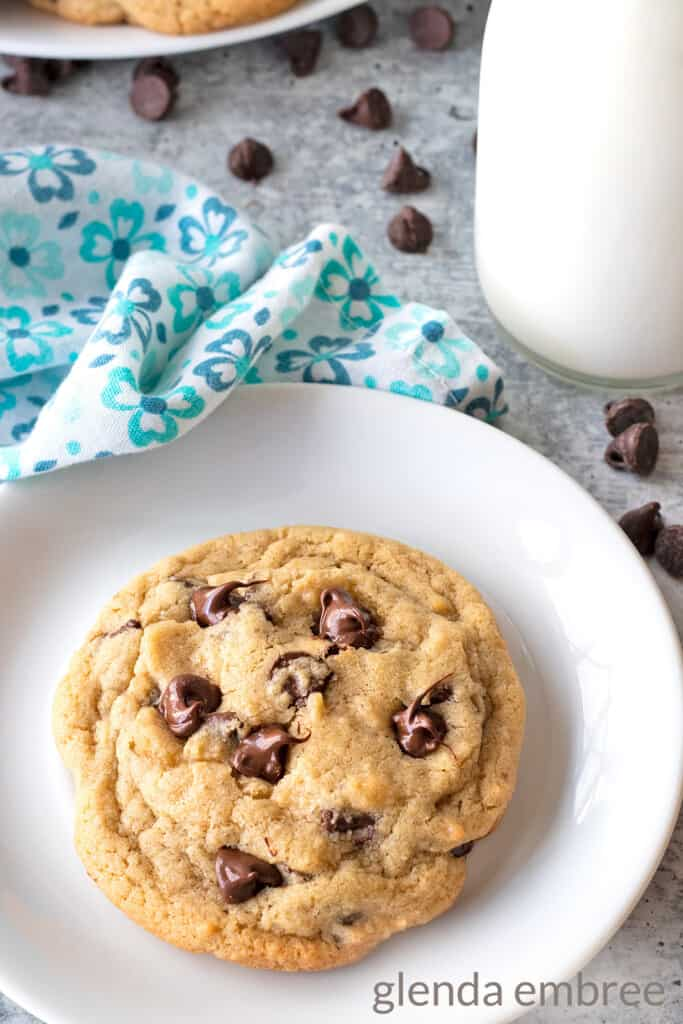cookie: (33, 512, 540, 983)
